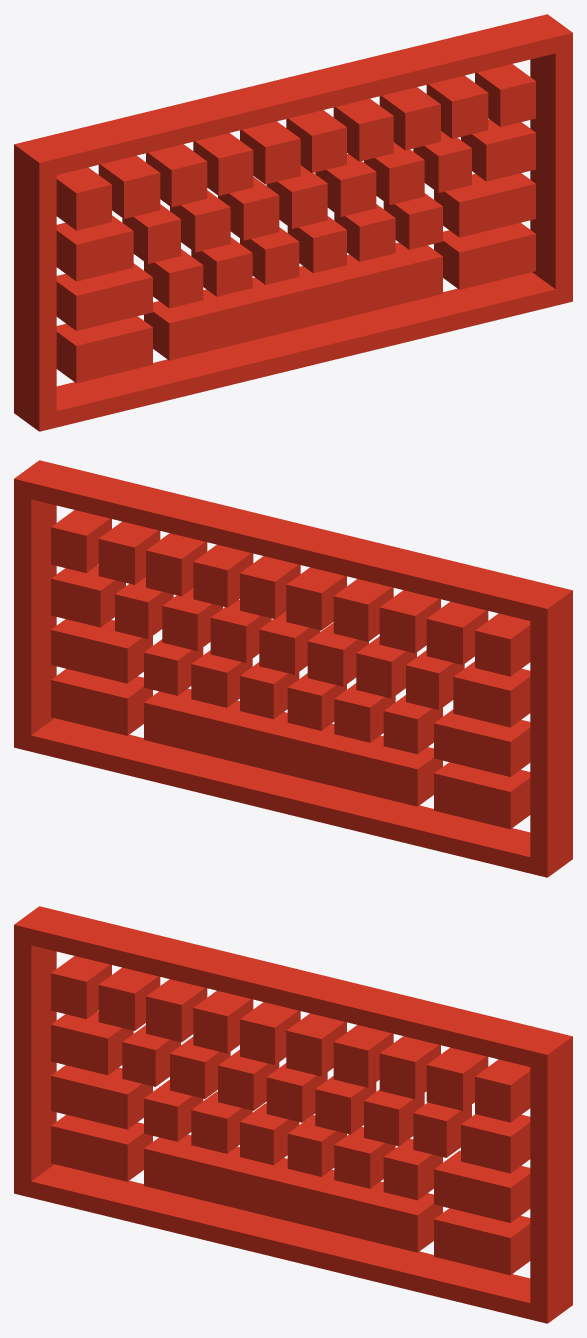
File: Icon_Keyboard.fbx
3 views of the same model, one above another, from view 1: azimuth 30°, elevation 25°; view 2: azimuth 150°, elevation 25°; view 3: azimuth 330°, elevation 25° (orthographic).
Parts seen in each view (by area): view 1: Icon_Keyboard; view 2: Icon_Keyboard; view 3: Icon_Keyboard.
Boxes of the visible parts, bbox=[...] form: Icon_Keyboard: bbox=[14, 14, 572, 431]; Icon_Keyboard: bbox=[14, 460, 572, 877]; Icon_Keyboard: bbox=[14, 906, 572, 1323].
Bounding box in the file's own units: 146 × 70.36 × 12.06.
